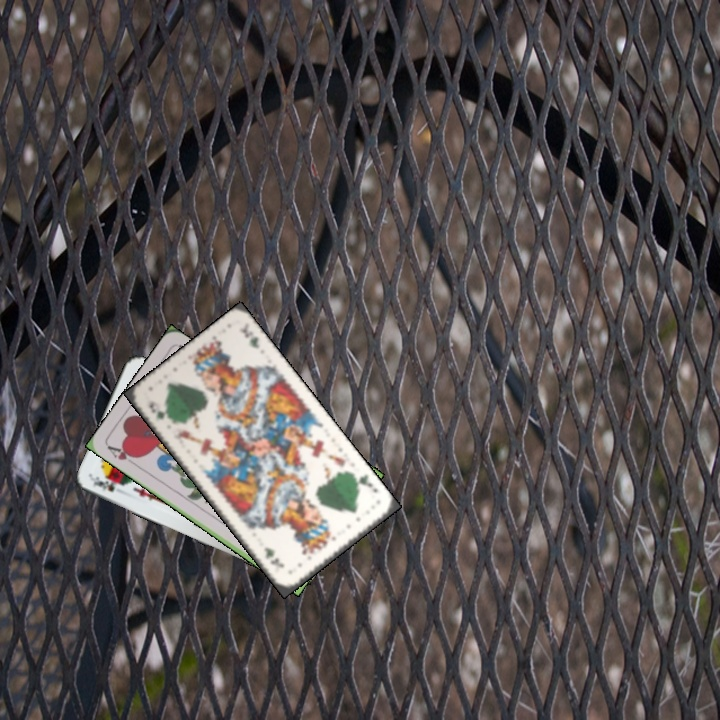GK: (350, 470, 381, 496), (145, 399, 175, 425)
HA: (103, 441, 140, 469)
SK: (89, 472, 117, 494)
